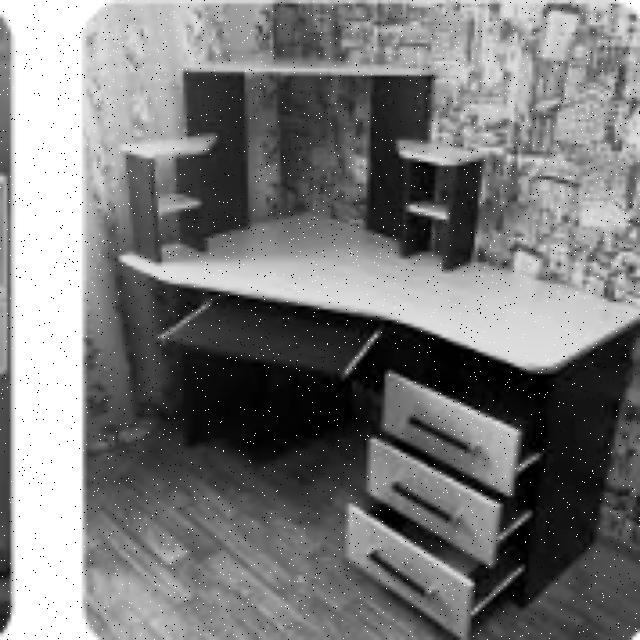table: (115, 205, 640, 640)
